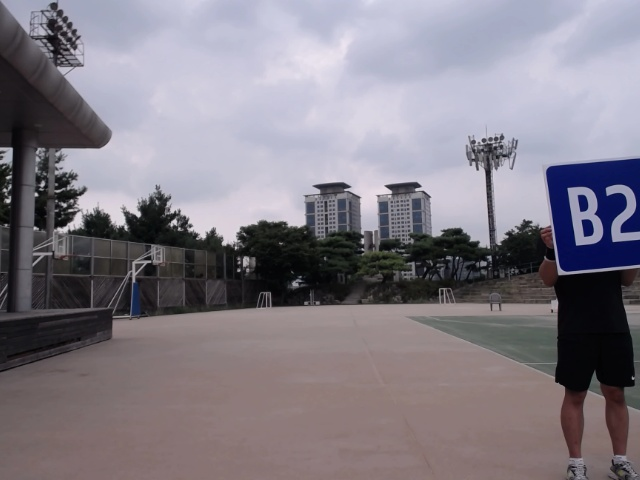delivery_b2: (541, 160, 639, 276)
